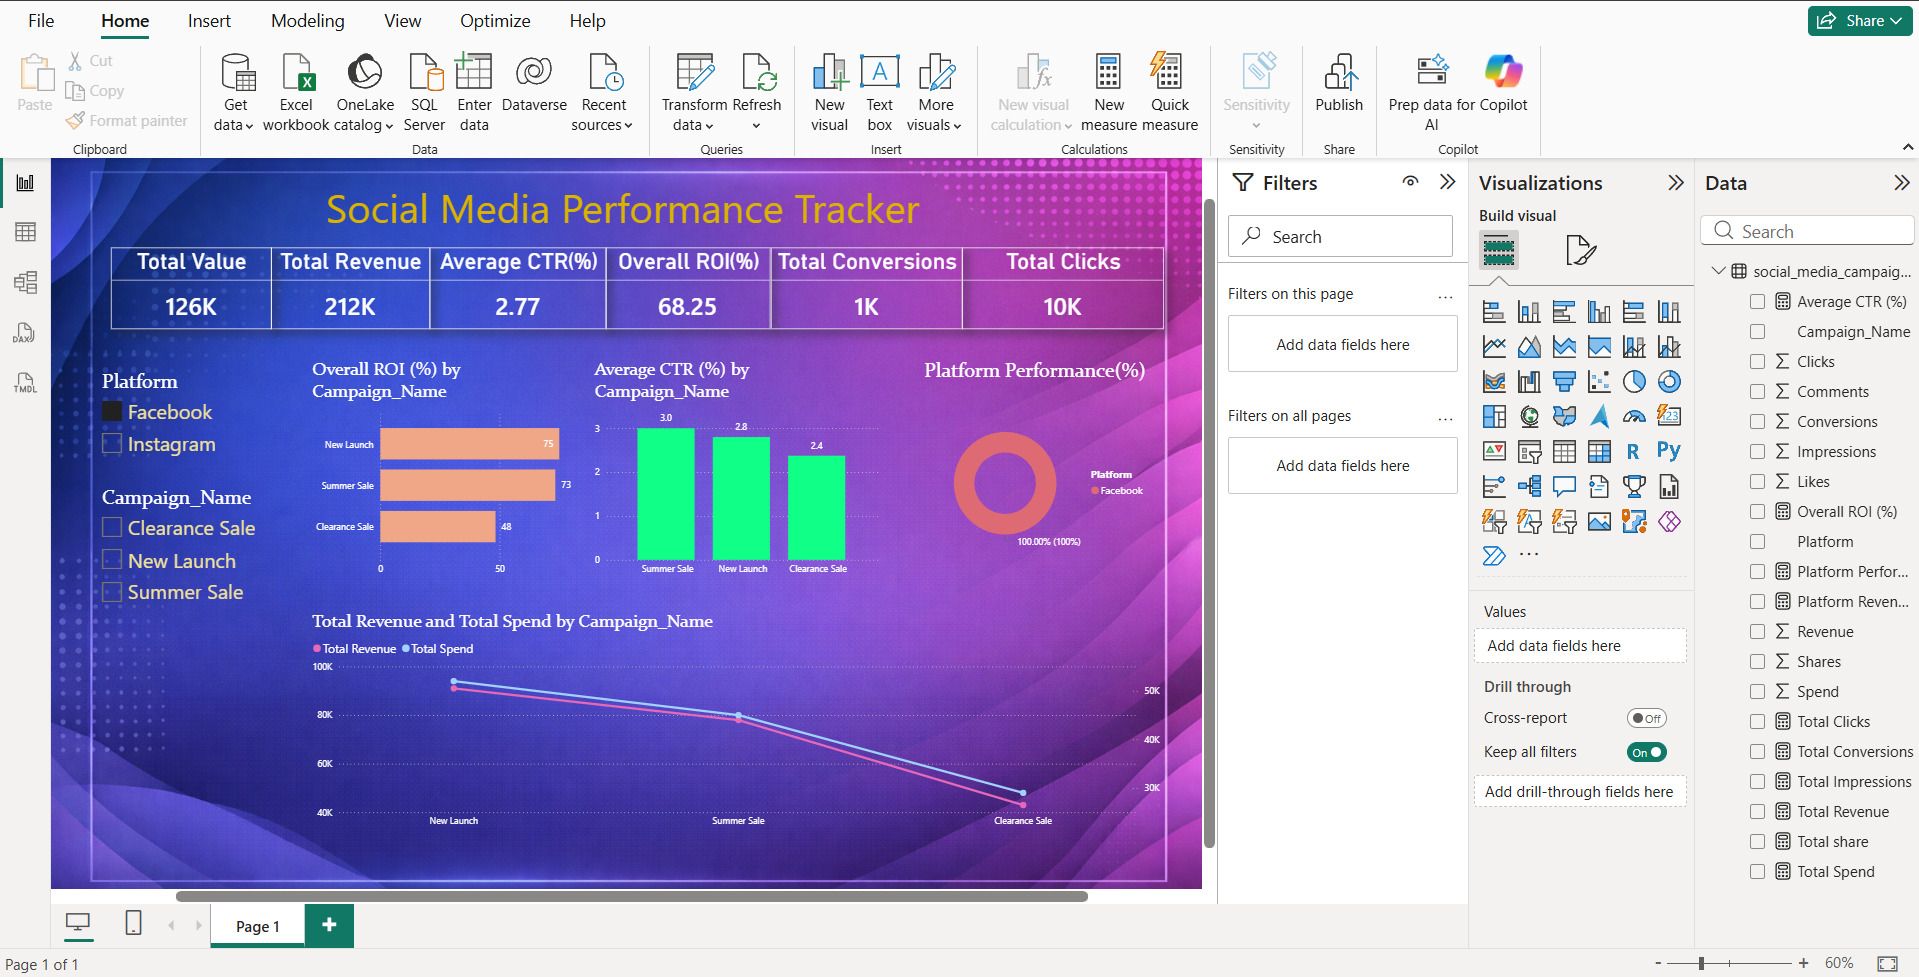

The page's visual inventory and layout, read from the dashboard file:
{"tool":"powerbi","page":{"name":"Page 1","canvas":[1920,1080],"ordinal":0},"visuals":[{"type":"textbox","box":[248.5,67.7,1429.2,85.4],"z":0},{"type":"cardVisual","title":"Total Revenue","fields":{"Data":["social_media_campaign_data.Total revenue"]},"box":[486.8,162.9,211.7,108.6],"z":1000},{"type":"cardVisual","title":"Average CTR(%)","fields":{"Data":["social_media_campaign_data.Average CTR (%)"]},"box":[698.5,162.9,235.3,108.6],"z":2000},{"type":"cardVisual","title":"Overall ROI(%)","fields":{"Data":["social_media_campaign_data.Overall ROI (%)"]},"box":[933.8,162.9,219,108.6],"z":3000},{"type":"cardVisual","title":"Total Conversions","fields":{"Data":["social_media_campaign_data.Total Conversions"]},"box":[1152.8,162.9,255.2,108.6],"z":4000},{"type":"slicer","fields":{"Values":["social_media_campaign_data.Platform"]},"box":[248.6,320,230,154.3],"z":5000},{"type":"slicer","fields":{"Values":["social_media_campaign_data.Campaign_Name"]},"box":[248.6,474.3,261.4,275.7],"z":6000},{"type":"barChart","fields":{"Y":["social_media_campaign_data.Overall ROI (%)"],"Category":["social_media_campaign_data.Campaign_Name"]},"box":[537.1,310,367.1,300],"z":7000},{"type":"columnChart","fields":{"Y":["social_media_campaign_data.Average CTR (%)"],"Category":["social_media_campaign_data.Campaign_Name"]},"box":[912.9,310,388.6,300],"z":8000},{"type":"donutChart","title":"Platform Performance(%)","fields":{"Category":["social_media_campaign_data.Platform"],"Y":["social_media_campaign_data.Platform Performance %"]},"box":[1347.1,310,317.1,302.9],"z":9000},{"type":"lineChart","fields":{"Category":["social_media_campaign_data.Campaign_Name"],"Y2":["social_media_campaign_data.Total Spend"],"Y":["social_media_campaign_data.Total revenue"]},"box":[537.1,647.1,1140,300],"z":10000},{"type":"cardVisual","title":"Total Value","fields":{"Data":["social_media_campaign_data.Total Spend"]},"box":[272.9,162.9,214.3,108.6],"z":11000},{"type":"cardVisual","title":"Total Clicks","fields":{"Data":["social_media_campaign_data.Total Clicks"]},"box":[1408.6,162.9,268.6,108.6],"z":11001}]}

Visuals, with their boxes on the page's 1920x1080 design canvas (x1, y1, x2, y2). These are canvas units, not pixel positions in the 1919x977 screenshot, which may show the page scaled, cropped or inside an application window:
textbox: [248, 68, 1678, 153]
"Total Revenue" cardVisual: [487, 163, 698, 272]
"Average CTR(%)" cardVisual: [698, 163, 934, 272]
"Overall ROI(%)" cardVisual: [934, 163, 1153, 272]
"Total Conversions" cardVisual: [1153, 163, 1408, 272]
slicer - social_media_campaign_data.Platform: [249, 320, 479, 474]
slicer - social_media_campaign_data.Campaign_Name: [249, 474, 510, 750]
barChart - social_media_campaign_data.Overall ROI (%) x social_media_campaign_data.Campaign_Name: [537, 310, 904, 610]
columnChart - social_media_campaign_data.Average CTR (%) x social_media_campaign_data.Campaign_Name: [913, 310, 1302, 610]
"Platform Performance(%)" donutChart: [1347, 310, 1664, 613]
lineChart - social_media_campaign_data.Campaign_Name x social_media_campaign_data.Total Spend: [537, 647, 1677, 947]
"Total Value" cardVisual: [273, 163, 487, 272]
"Total Clicks" cardVisual: [1409, 163, 1677, 272]
